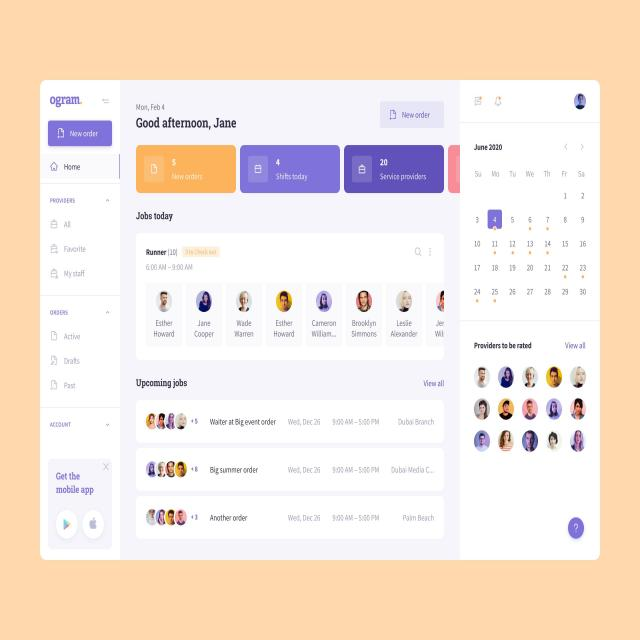button: (380, 101, 443, 128), (48, 120, 112, 146), (81, 508, 105, 540), (56, 508, 78, 540), (568, 517, 584, 539)
